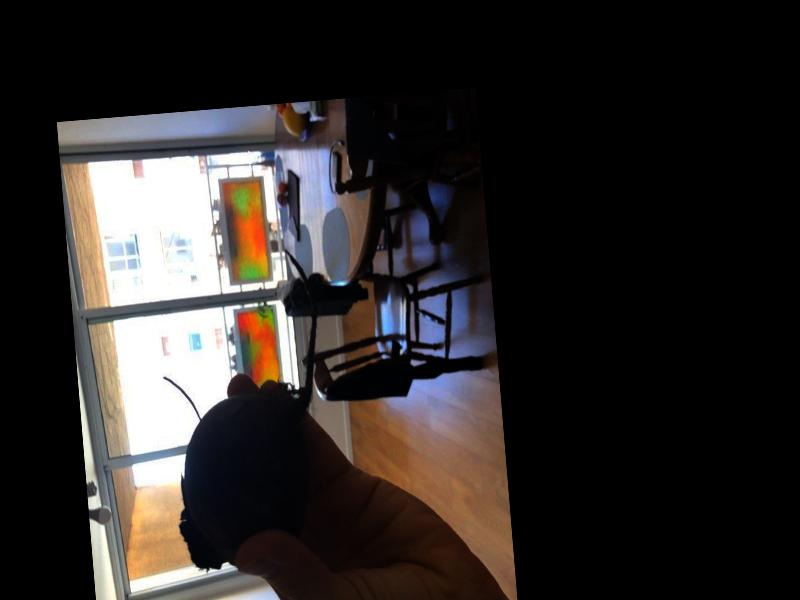Beet: (156, 247, 335, 571)
